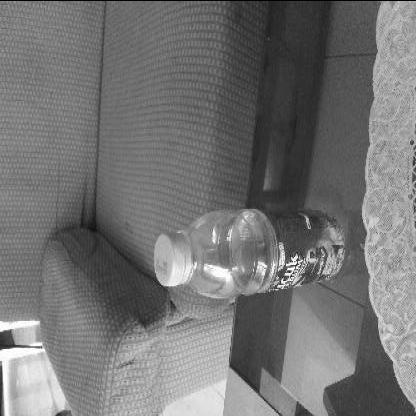plastic_bottles: (152, 201, 353, 299)
